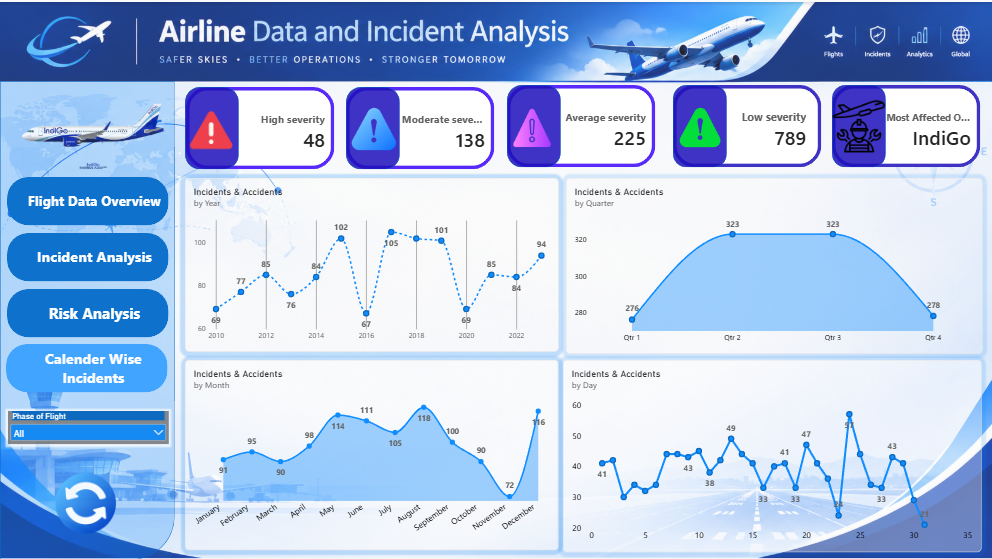

What the dashboard file says about the page in this screenshot:
{"tool":"powerbi","page":{"name":"Page 5","canvas":[1920,1080],"ordinal":3},"visuals":[{"type":"cardVisual","fields":{"Data":["dgca_aviation_incidents_2010_2023.Average severity"]},"box":[982.2,161.6,287,159.4],"z":0,"group":"g3"},{"type":"cardVisual","fields":{"Data":["dgca_aviation_incidents_2010_2023.Low severity"]},"box":[1303.2,161.6,287,159.4],"z":0,"group":"g2"},{"type":"cardVisual","fields":{"Data":["dgca_aviation_incidents_2010_2023.Most Affected Operator"]},"box":[1609.4,161.6,287,159.4],"z":0,"group":"g1"},{"type":"cardVisual","fields":{"Data":["dgca_aviation_incidents_2010_2023.High severity"]},"box":[361.5,163.7,287,159.4],"z":0,"group":"g5"},{"type":"cardVisual","fields":{"Data":["dgca_aviation_incidents_2010_2023.Moderate severity"]},"box":[669.7,163.7,287,159.4],"z":0,"group":"g4"},{"type":"lineChart","fields":{"Category":["dgca_aviation_incidents_2010_2023.date.Variation.Date Hierarchy.Year"],"Y":["dgca_aviation_incidents_2010_2023.incidents & Accidents"]},"box":[357.2,340.2,722.8,335.9],"z":0},{"type":"shape","box":[982.2,161.6,104.2,159.4],"z":1000,"group":"g3"},{"type":"shape","box":[1303.2,161.6,104.2,159.4],"z":1000,"group":"g2"},{"type":"shape","box":[1609.4,161.6,104.2,159.4],"z":1000,"group":"g1"},{"type":"shape","box":[669.7,163.7,104.2,159.4],"z":1000,"group":"g4"},{"type":"shape","box":[358.9,164.3,104.2,159.4],"z":1000,"group":"g5"},{"type":"areaChart","fields":{"Category":["dgca_aviation_incidents_2010_2023.date.Variation.Date Hierarchy.Quarter"],"Y":["dgca_aviation_incidents_2010_2023.incidents & Accidents"]},"box":[1094.9,340.2,805.7,340.2],"z":1000},{"type":"areaChart","fields":{"Category":["dgca_aviation_incidents_2010_2023.date.Variation.Date Hierarchy.Month"],"Y":["dgca_aviation_incidents_2010_2023.incidents & Accidents"]},"box":[357.2,693.1,722.8,367.8],"z":2000},{"type":"lineChart","fields":{"Category":["dgca_aviation_incidents_2010_2023.date.Variation.Date Hierarchy.Day"],"Y":["dgca_aviation_incidents_2010_2023.incidents & Accidents"]},"box":[1090.6,693.1,810,372],"z":3000},{"type":"shape","box":[0,153.1,338,926.9],"z":4000},{"type":"group","id":"g1","title":"Group 1","box":[1609.4,161.6,284.9,159.4],"z":5000},{"type":"group","id":"g2","title":"Group 1","box":[1303.2,161.6,284.9,161.6],"z":6000},{"type":"group","id":"g3","title":"Group 1","box":[982.2,161.6,284.9,159.4],"z":7000},{"type":"group","id":"g4","title":"Group 1","box":[669.7,163.7,284.9,159.4],"z":8000},{"type":"group","id":"g5","title":"Group 1","box":[358.9,163.7,289.7,160.1],"z":9000},{"type":"image","box":[673.9,202,99.9,89.3],"z":10000},{"type":"image","box":[1303.2,202,104.2,82.9],"z":11000},{"type":"image","box":[982.2,202,97.8,85],"z":12000},{"type":"image","box":[350.8,189.2,116.9,119.1],"z":13000},{"type":"image","box":[1609.4,189.2,104.2,102],"z":14000},{"type":"image","box":[0,172.2,361.4,159.4],"z":15000},{"type":"actionButton","box":[12.8,446.5,312.5,93.5],"z":16000},{"type":"actionButton","box":[12.8,338,312.5,93.5],"z":17000},{"type":"actionButton","box":[12.8,554.9,312.5,93.5],"z":18000},{"type":"image","box":[107.3,911.7,119.1,116.9],"z":20000},{"type":"slicer","fields":{"Values":["dgca_aviation_incidents_2010_2023.ata_system"]},"box":[15,791.6,311.1,64.4],"z":21000},{"type":"actionButton","box":[10.8,661.5,312.5,93.5],"z":22000}]}

Visuals, with their boxes in screenshot pixels (x1, y1, x2, y2), scaled from the page's 1920x1080 canvas onto the 992x559 screenshot:
cardVisual - dgca_aviation_incidents_2010_2023.Average severity: <region>507, 84, 656, 166</region>
cardVisual - dgca_aviation_incidents_2010_2023.Low severity: <region>673, 84, 822, 166</region>
cardVisual - dgca_aviation_incidents_2010_2023.Most Affected Operator: <region>832, 84, 980, 166</region>
cardVisual - dgca_aviation_incidents_2010_2023.High severity: <region>187, 85, 335, 167</region>
cardVisual - dgca_aviation_incidents_2010_2023.Moderate severity: <region>346, 85, 494, 167</region>
lineChart - dgca_aviation_incidents_2010_2023.date.Variation.Date Hierarchy.Year x dgca_aviation_incidents_2010_2023.incidents & Accidents: <region>185, 176, 558, 350</region>
shape: <region>507, 84, 561, 166</region>
shape: <region>673, 84, 727, 166</region>
shape: <region>832, 84, 885, 166</region>
shape: <region>346, 85, 400, 167</region>
shape: <region>185, 85, 239, 168</region>
areaChart - dgca_aviation_incidents_2010_2023.date.Variation.Date Hierarchy.Quarter x dgca_aviation_incidents_2010_2023.incidents & Accidents: <region>566, 176, 982, 352</region>
areaChart - dgca_aviation_incidents_2010_2023.date.Variation.Date Hierarchy.Month x dgca_aviation_incidents_2010_2023.incidents & Accidents: <region>185, 359, 558, 549</region>
lineChart - dgca_aviation_incidents_2010_2023.date.Variation.Date Hierarchy.Day x dgca_aviation_incidents_2010_2023.incidents & Accidents: <region>563, 359, 982, 551</region>
shape: <region>0, 79, 175, 558</region>
"Group 1" group: <region>832, 84, 979, 166</region>
"Group 1" group: <region>673, 84, 821, 167</region>
"Group 1" group: <region>507, 84, 655, 166</region>
"Group 1" group: <region>346, 85, 493, 167</region>
"Group 1" group: <region>185, 85, 335, 168</region>
image: <region>348, 105, 400, 151</region>
image: <region>673, 105, 727, 147</region>
image: <region>507, 105, 558, 149</region>
image: <region>181, 98, 242, 160</region>
image: <region>832, 98, 885, 151</region>
image: <region>0, 89, 187, 172</region>
actionButton: <region>7, 231, 168, 280</region>
actionButton: <region>7, 175, 168, 223</region>
actionButton: <region>7, 287, 168, 336</region>
image: <region>55, 472, 117, 532</region>
slicer - dgca_aviation_incidents_2010_2023.ata_system: <region>8, 410, 168, 443</region>
actionButton: <region>6, 342, 167, 391</region>
